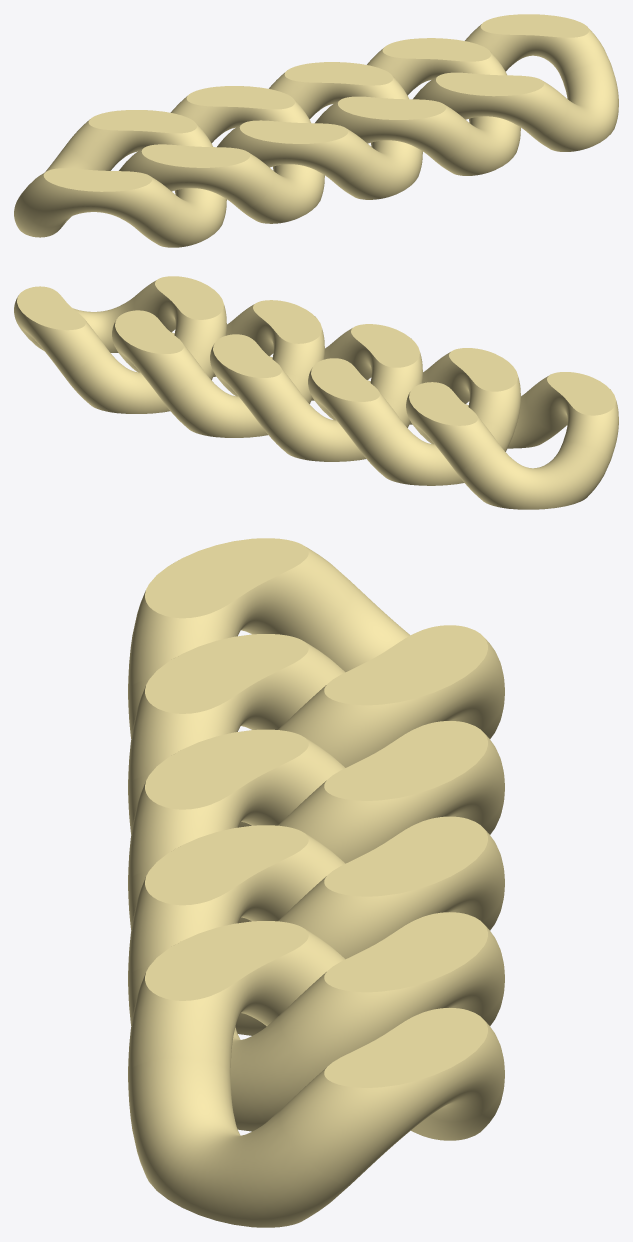
The picture shows the model from 3 angles, top to bottom: view 1: azimuth 30°, elevation 25°; view 2: azimuth 150°, elevation 25°; view 3: azimuth 270°, elevation 25°; orthographic projection. The views are drawn at different scales.
Parts seen in each view (by area): view 1: MaillonCubanChain (3), MaillonCubanChain (4), MaillonCubanChain, MaillonCubanChain (2), MaillonCubanChain (1); view 2: MaillonCubanChain (3), MaillonCubanChain (4), MaillonCubanChain (1), MaillonCubanChain, MaillonCubanChain (2); view 3: MaillonCubanChain (4), MaillonCubanChain (2), MaillonCubanChain (3), MaillonCubanChain, MaillonCubanChain (1).
Part boxes in pixels (left/top/right/bottom): MaillonCubanChain (3): left=14, top=110, right=226, bottom=247; MaillonCubanChain (4): left=413, top=14, right=618, bottom=151; MaillonCubanChain: left=217, top=62, right=422, bottom=199; MaillonCubanChain (2): left=315, top=38, right=520, bottom=175; MaillonCubanChain (1): left=119, top=86, right=324, bottom=223; MaillonCubanChain (3): left=406, top=372, right=618, bottom=509; MaillonCubanChain (4): left=14, top=276, right=226, bottom=413; MaillonCubanChain (1): left=308, top=348, right=520, bottom=485; MaillonCubanChain: left=210, top=324, right=422, bottom=461; MaillonCubanChain (2): left=112, top=300, right=324, bottom=437; MaillonCubanChain (4): left=128, top=921, right=504, bottom=1227; MaillonCubanChain (2): left=128, top=825, right=504, bottom=1131; MaillonCubanChain (3): left=128, top=538, right=504, bottom=827; MaillonCubanChain: left=128, top=729, right=504, bottom=1035; MaillonCubanChain (1): left=128, top=634, right=504, bottom=923.
Bounding box in the file's own units: 3.94 × 0.45 × 1.1.
